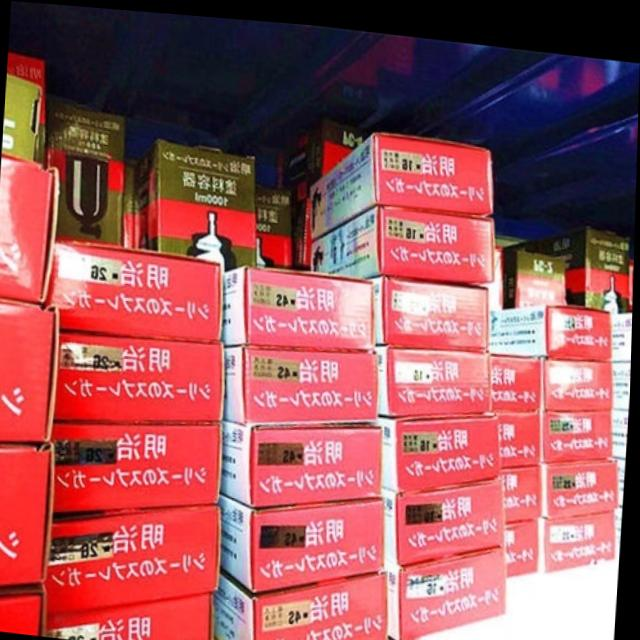box: (311, 126, 493, 235), (52, 500, 222, 613), (46, 239, 222, 336), (57, 416, 224, 514), (134, 138, 257, 268), (223, 490, 386, 588), (221, 412, 383, 501), (57, 333, 224, 419), (312, 196, 495, 273), (215, 562, 389, 640), (225, 339, 379, 418), (221, 263, 374, 342), (386, 539, 509, 636), (47, 95, 126, 245), (382, 469, 505, 560), (501, 219, 632, 303), (378, 402, 503, 485), (0, 152, 60, 304), (0, 296, 61, 441), (369, 266, 488, 340), (278, 112, 371, 202), (0, 440, 55, 587), (378, 339, 492, 408), (49, 593, 216, 640), (489, 296, 614, 347), (4, 52, 48, 161), (545, 499, 618, 561), (542, 451, 620, 506), (499, 240, 569, 301), (544, 397, 615, 452), (546, 348, 615, 402), (491, 342, 547, 403), (494, 398, 545, 459), (255, 180, 293, 261), (503, 452, 543, 513), (0, 587, 49, 634), (506, 508, 545, 567), (293, 195, 312, 263), (122, 161, 136, 245), (612, 300, 633, 352), (614, 348, 632, 398), (615, 394, 630, 447), (617, 447, 626, 495), (628, 246, 635, 301), (618, 494, 622, 540)
